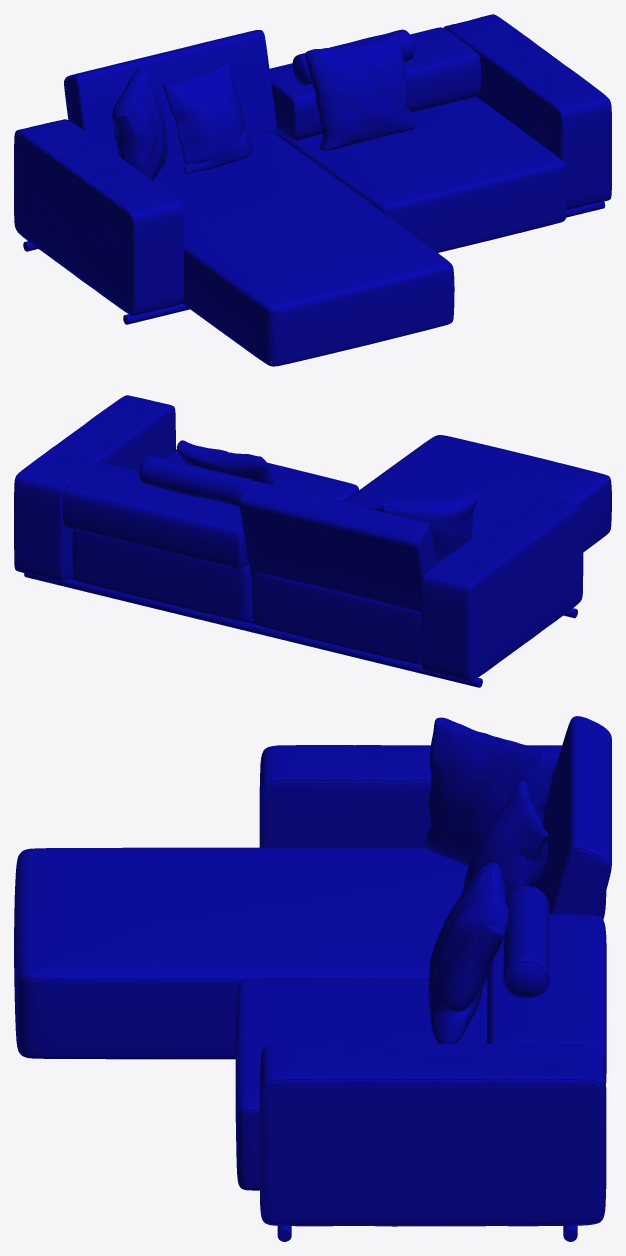
The model's file is couch2.fbx.
3 renders of one model, top to bottom at view 1: azimuth 30°, elevation 25°; view 2: azimuth 150°, elevation 25°; view 3: azimuth 270°, elevation 25°, orthographic. The views are drawn at different scales.
Parts seen in each view (by area): view 1: DSTYLISH_fsb001:dstylish09, DSTYLISH_fsb001:dstylish00, DSTYLISH_fsb001:dstylish04, DSTYLISH_fsb001:dstylish06, DSTYLISH_fsb001:dstylish05, DSTYLISH_fsb001:dstylish07, DSTYLISH_fsb001:dstylish02; view 2: DSTYLISH_fsb001:dstylish09, DSTYLISH_fsb001:dstylish00, DSTYLISH_fsb001:dstylish03, DSTYLISH_fsb001:dstylish07, DSTYLISH_fsb001:dstylish05, DSTYLISH_fsb001:dstylish04; view 3: DSTYLISH_fsb001:dstylish09, DSTYLISH_fsb001:dstylish00, DSTYLISH_fsb001:dstylish05, DSTYLISH_fsb001:dstylish04, DSTYLISH_fsb001:dstylish06, DSTYLISH_fsb001:dstylish07.
Part boxes in pixels (<box>): DSTYLISH_fsb001:dstylish09: <box>14,14,611,366</box>; DSTYLISH_fsb001:dstylish00: <box>64,27,480,157</box>; DSTYLISH_fsb001:dstylish04: <box>305,33,415,150</box>; DSTYLISH_fsb001:dstylish06: <box>162,62,253,173</box>; DSTYLISH_fsb001:dstylish05: <box>112,68,168,180</box>; DSTYLISH_fsb001:dstylish07: <box>292,29,414,85</box>; DSTYLISH_fsb001:dstylish02: <box>123,201,605,324</box>; DSTYLISH_fsb001:dstylish09: <box>14,395,611,681</box>; DSTYLISH_fsb001:dstylish00: <box>62,462,436,612</box>; DSTYLISH_fsb001:dstylish03: <box>24,573,482,687</box>; DSTYLISH_fsb001:dstylish07: <box>139,455,252,507</box>; DSTYLISH_fsb001:dstylish05: <box>380,491,477,563</box>; DSTYLISH_fsb001:dstylish04: <box>176,440,273,485</box>; DSTYLISH_fsb001:dstylish09: <box>14,745,606,1226</box>; DSTYLISH_fsb001:dstylish00: <box>487,716,611,1082</box>; DSTYLISH_fsb001:dstylish05: <box>424,717,558,887</box>; DSTYLISH_fsb001:dstylish04: <box>428,862,508,1043</box>; DSTYLISH_fsb001:dstylish06: <box>463,781,548,897</box>; DSTYLISH_fsb001:dstylish07: <box>503,886,549,998</box>.
Bounding box in the file's own units: 11.48 × 3.7 × 8.65.
